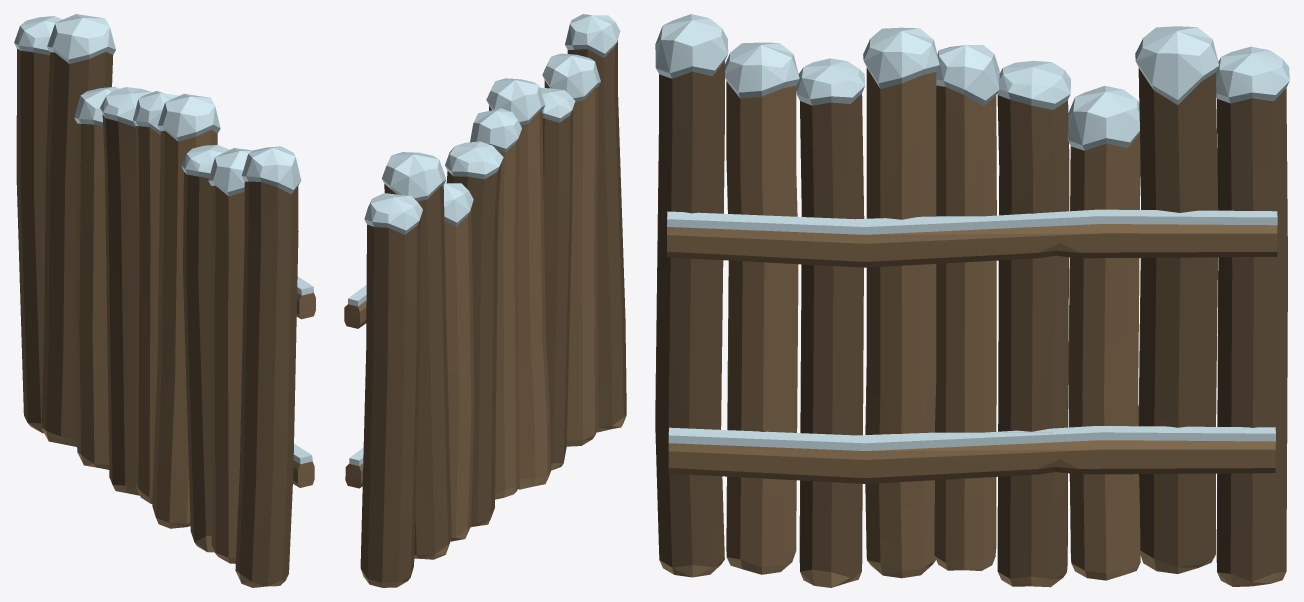
Rendered from Cerca_Grande_Madera01.glb.
3 views of the same model, side by side, from view 1: azimuth 30°, elevation 25°; view 2: azimuth 150°, elevation 25°; view 3: azimuth 270°, elevation 25° (orthographic). The views are drawn at different scales.
Visible parts, largest first — view 1: SM_Prop_Fence_Wood_Large_01_Snow; view 2: SM_Prop_Fence_Wood_Large_01_Snow; view 3: SM_Prop_Fence_Wood_Large_01_Snow.
Boxes of the visible parts, bbox=[...] form: SM_Prop_Fence_Wood_Large_01_Snow: bbox=[14, 14, 315, 587]; SM_Prop_Fence_Wood_Large_01_Snow: bbox=[344, 14, 626, 587]; SM_Prop_Fence_Wood_Large_01_Snow: bbox=[655, 14, 1289, 587].
Bounding box in the file's own units: 0.6275 × 3.67 × 3.76.
1 material, 1 textured.
